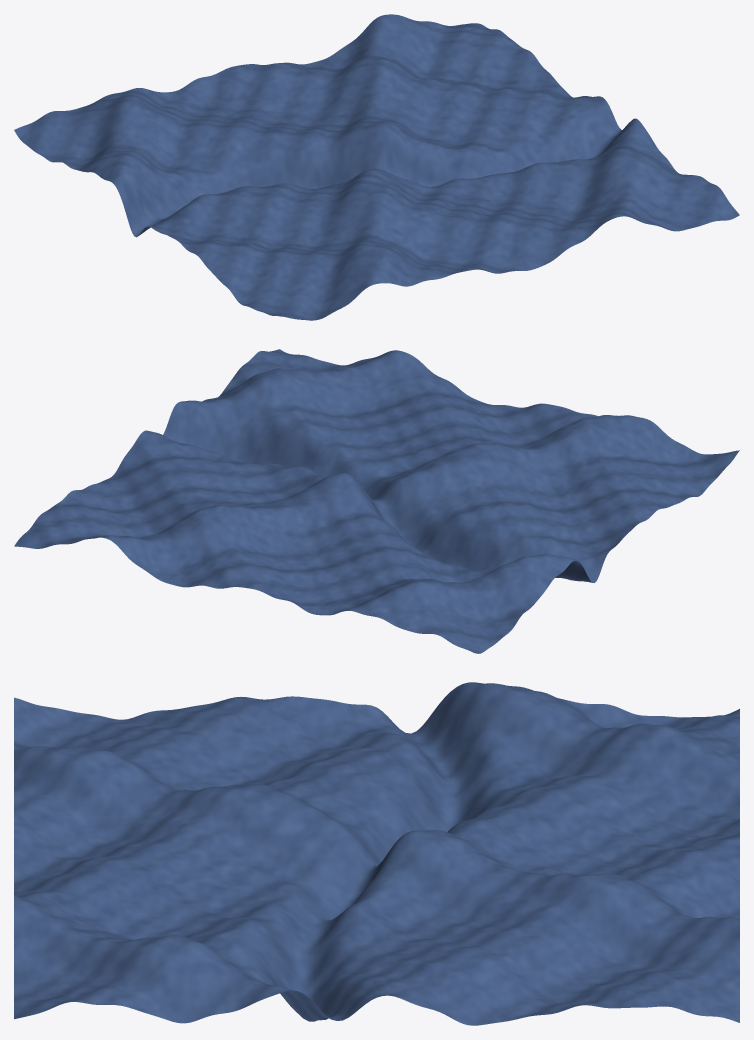
File: neptune_landscape.glb
3 views of the same model, one above another, from view 1: azimuth 30°, elevation 25°; view 2: azimuth 150°, elevation 25°; view 3: azimuth 270°, elevation 25° (orthographic). The views are drawn at different scales.
Parts seen in each view (by area): view 1: Neptune Landscape; view 2: Neptune Landscape; view 3: Neptune Landscape.
Boxes of the visible parts, x1,y1,x2,y2 form: Neptune Landscape: [14, 14, 739, 320]; Neptune Landscape: [14, 349, 739, 653]; Neptune Landscape: [14, 682, 739, 1025].
Size of the model in its own units: 760 by 96.99 by 760.
1 material, 1 textured.
